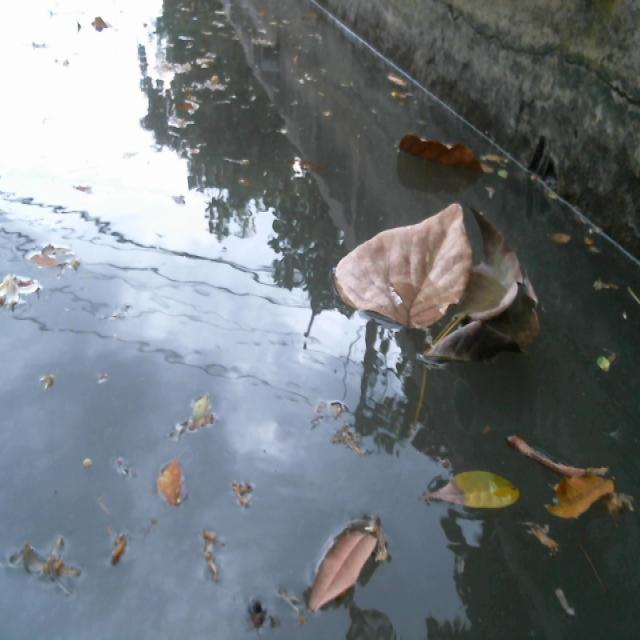Big-leaf: (335, 198, 469, 338), (440, 209, 545, 383), (525, 441, 638, 538), (398, 107, 486, 185)
Small-leaf: (296, 513, 391, 614), (427, 472, 517, 530), (148, 455, 185, 518), (482, 151, 530, 187), (383, 65, 418, 104), (598, 342, 624, 379)
